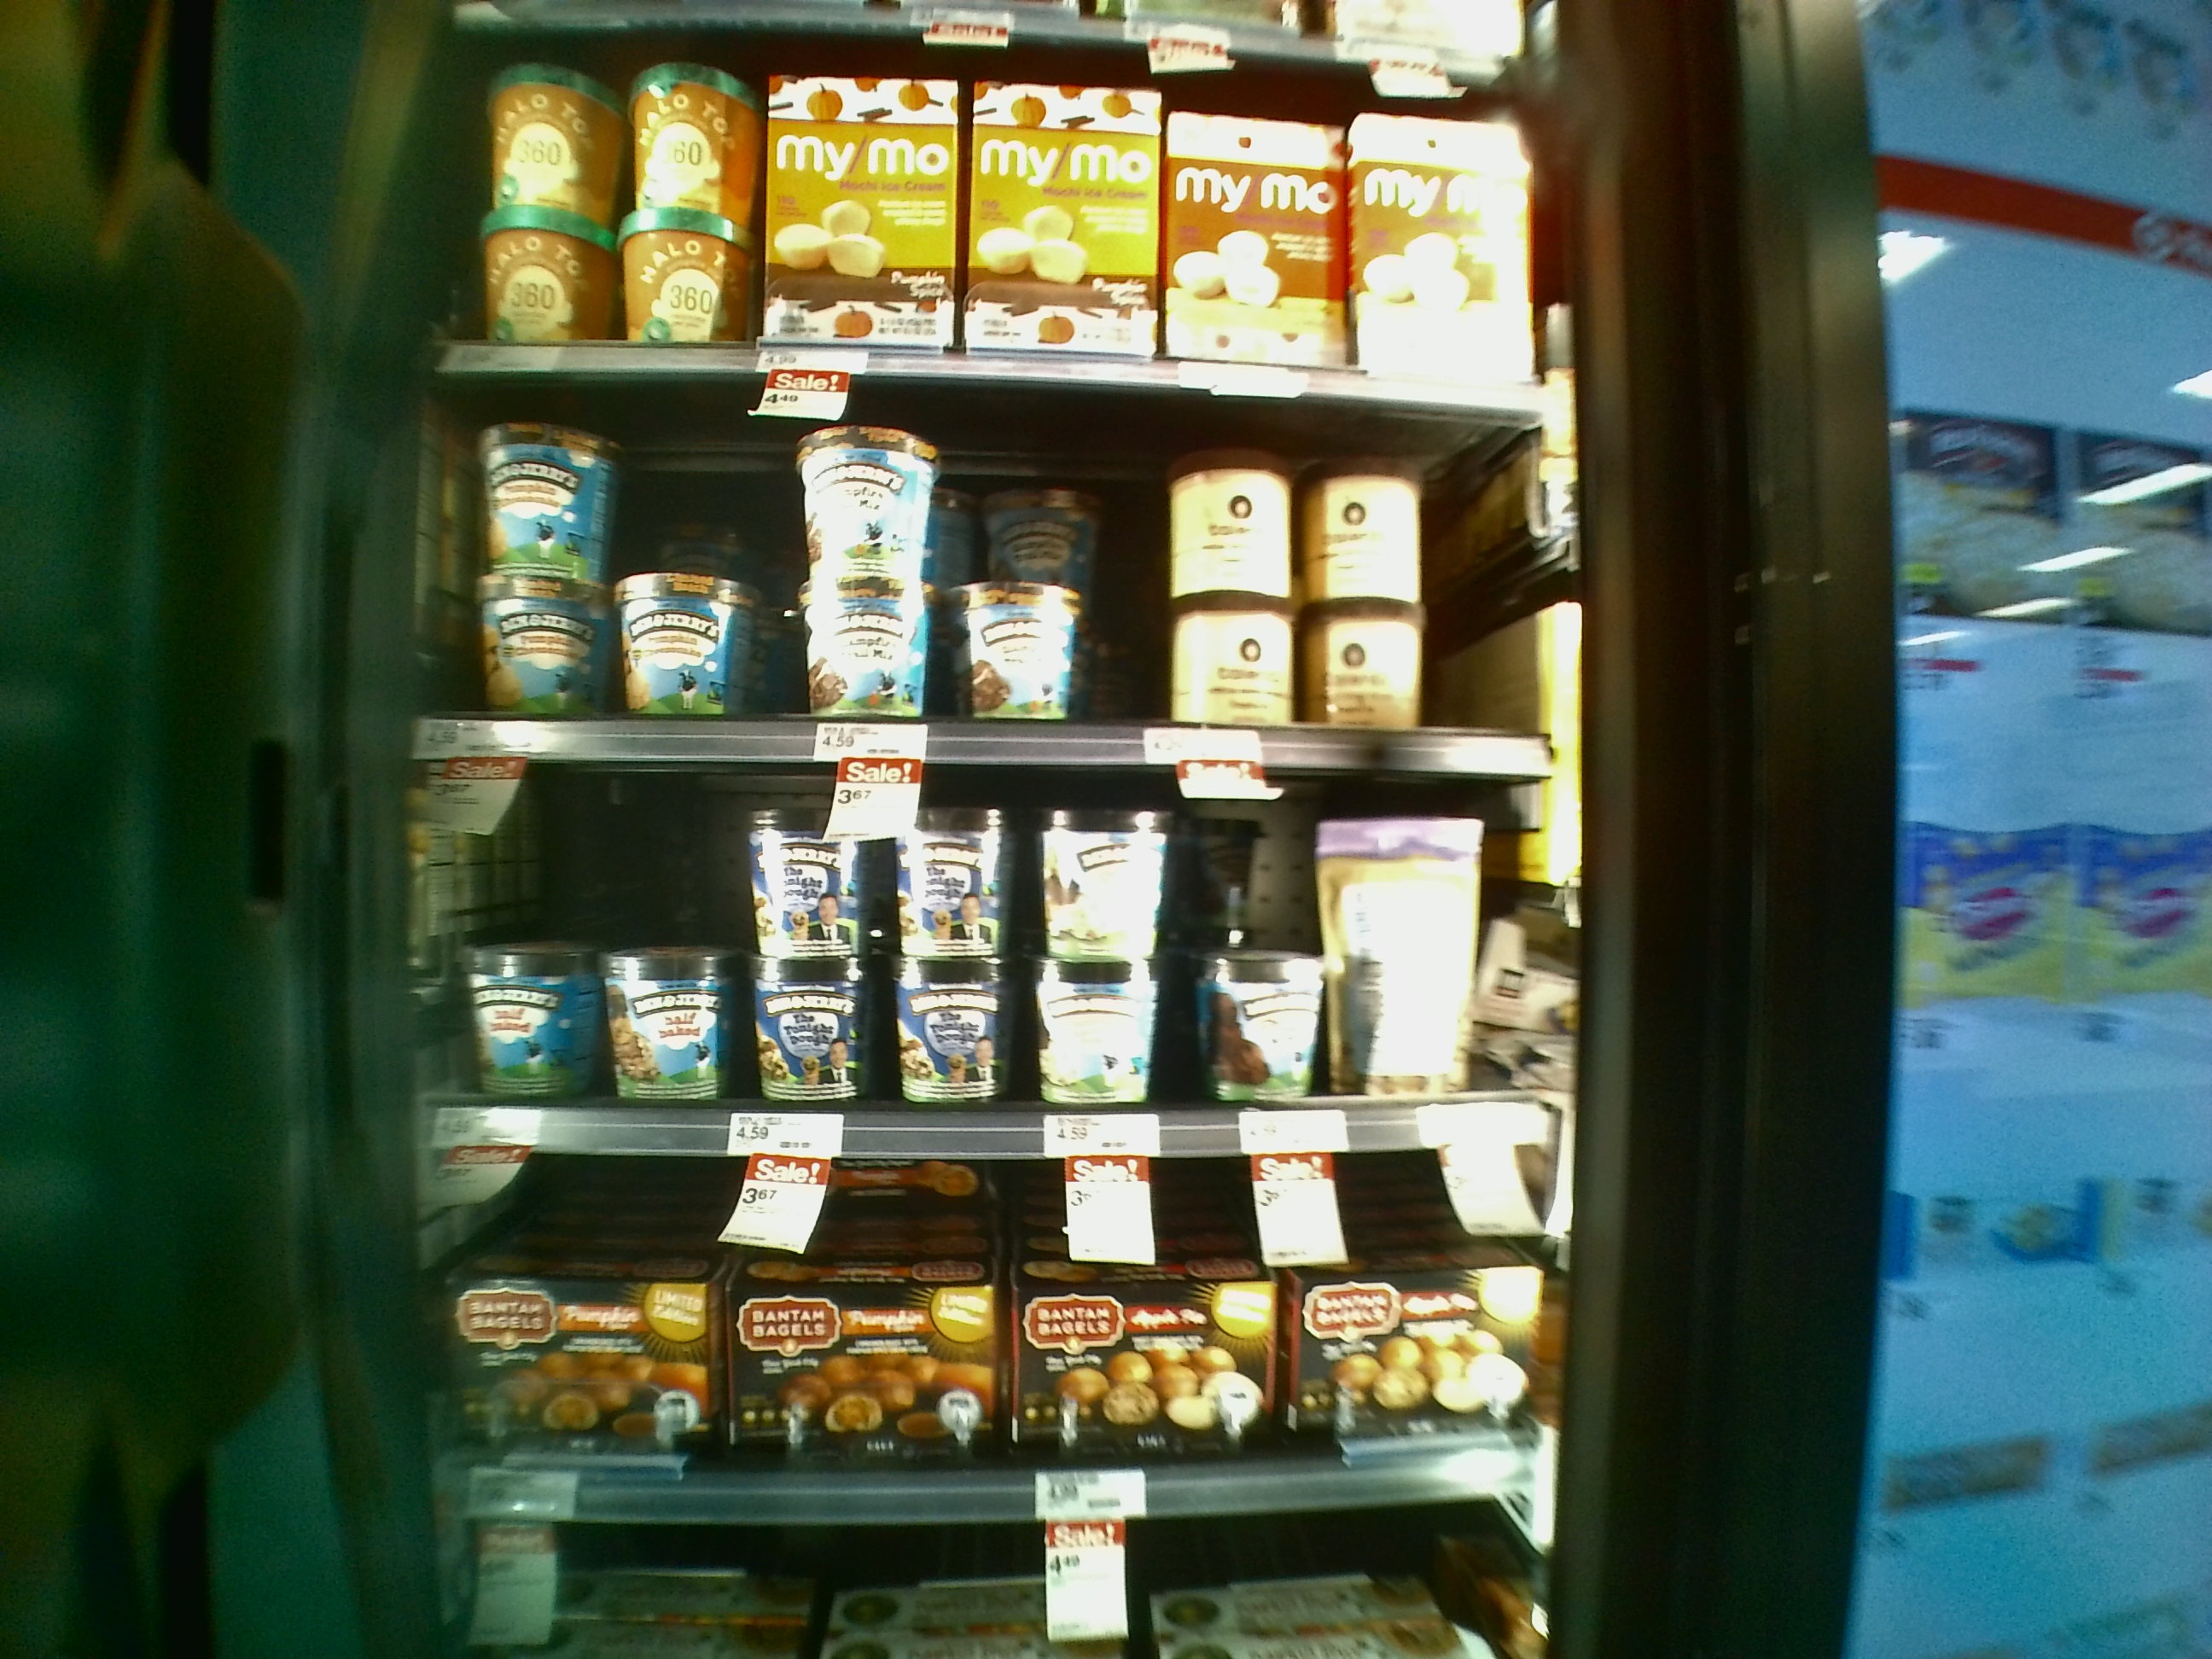shelf: (413, 336, 1583, 784), (387, 742, 1575, 1164), (394, 1133, 1550, 1511)
